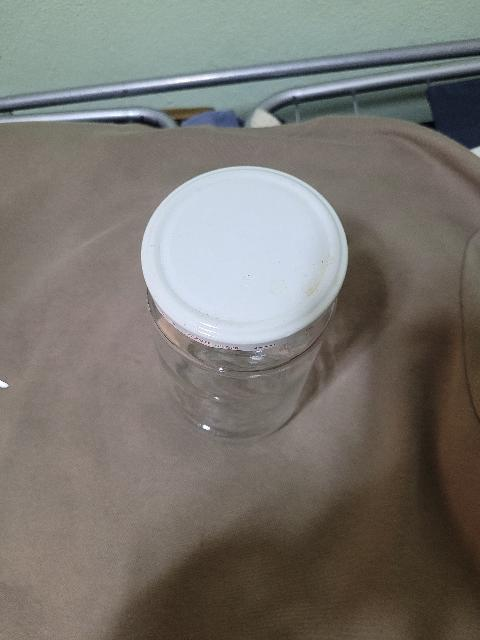Cam: (144, 292, 352, 441)
Metal: (140, 167, 358, 347)
